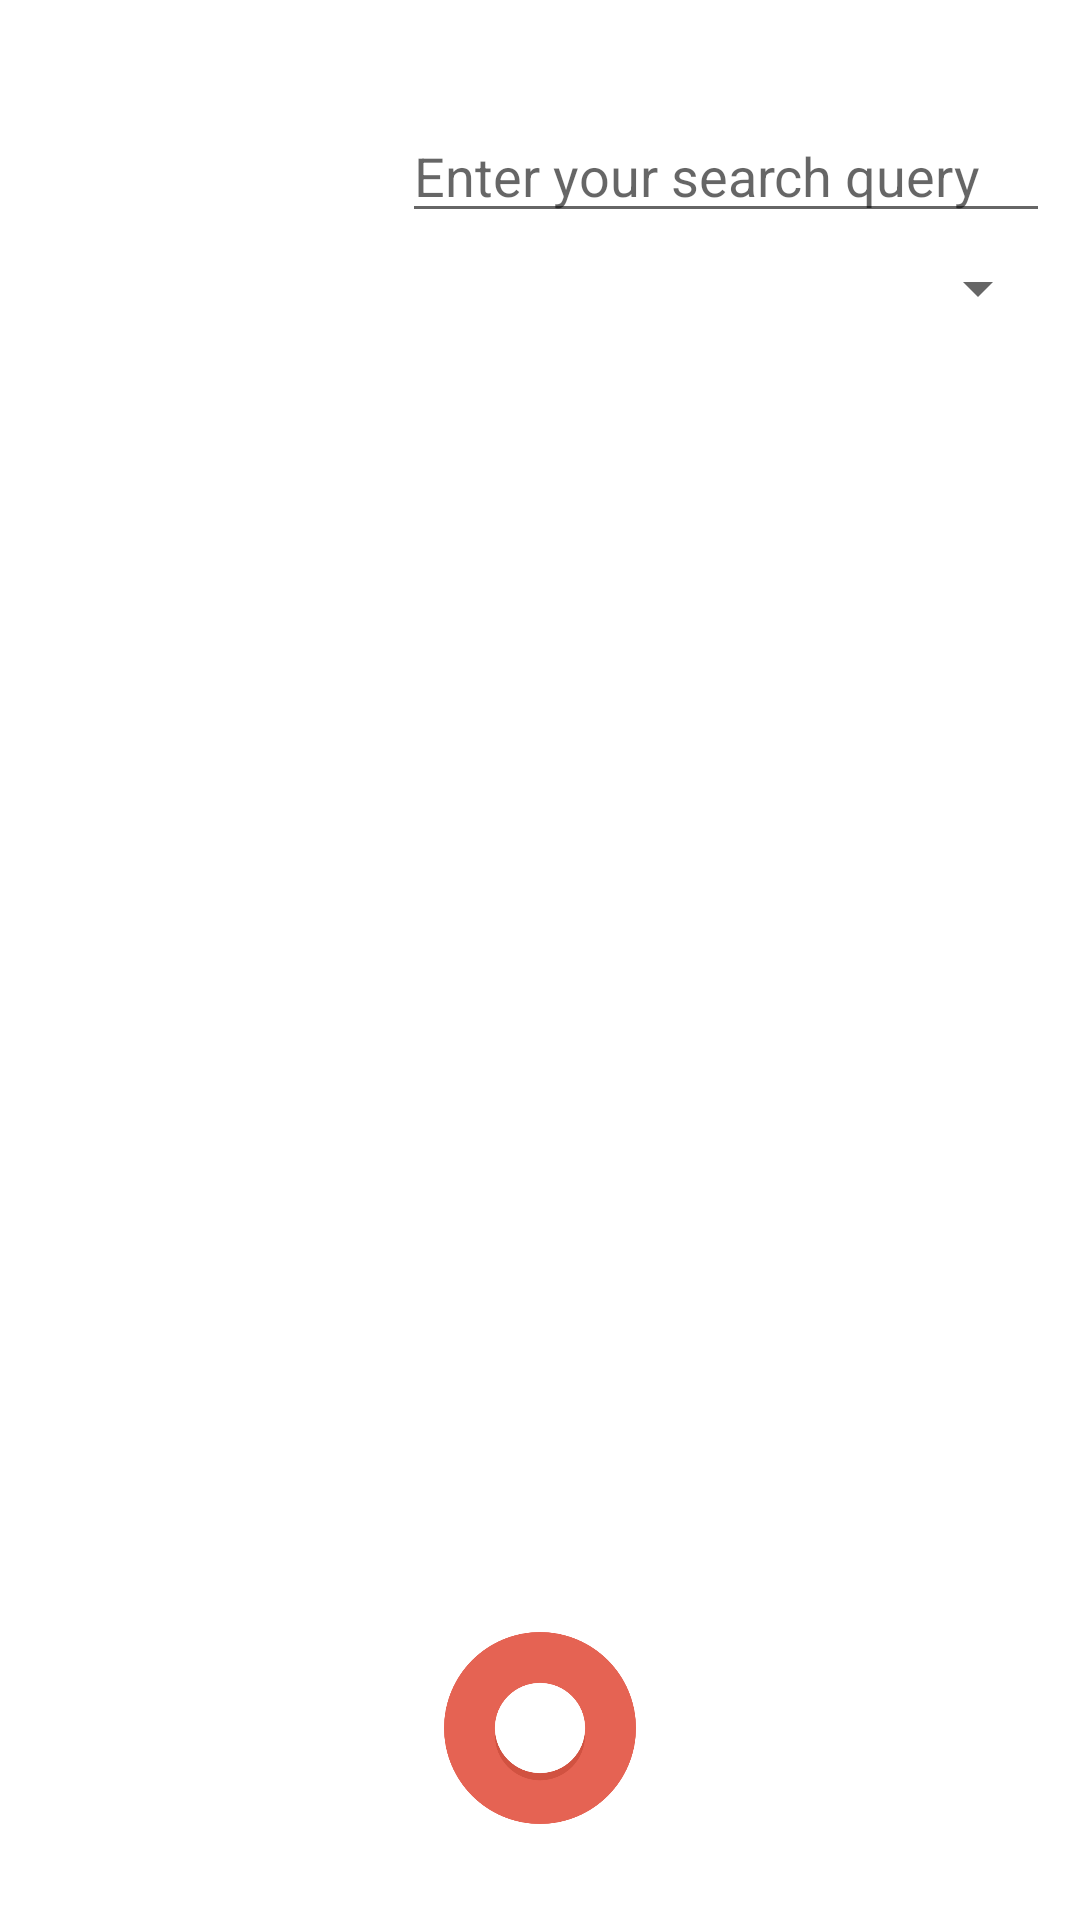

Named icons in this screenshot (1080 x 1920) and their centers, [x,y]:
start recording: [540,1728]
